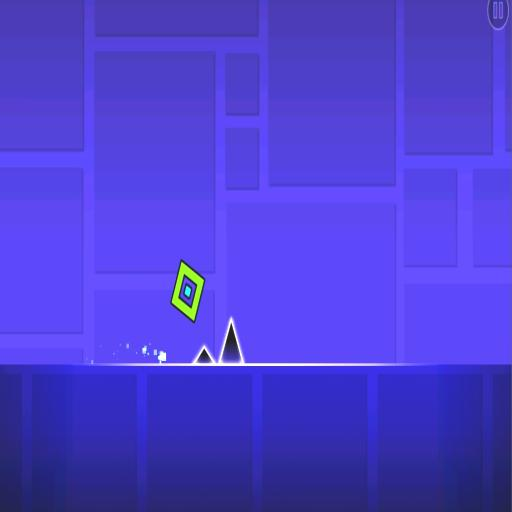player: (171, 260, 204, 322)
spike: (219, 319, 244, 362), (194, 346, 214, 363)
